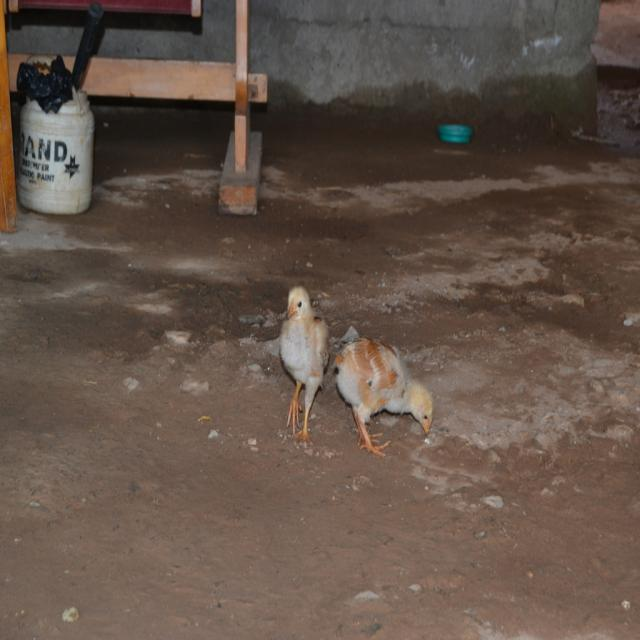Chicken: (274, 280, 333, 436)
